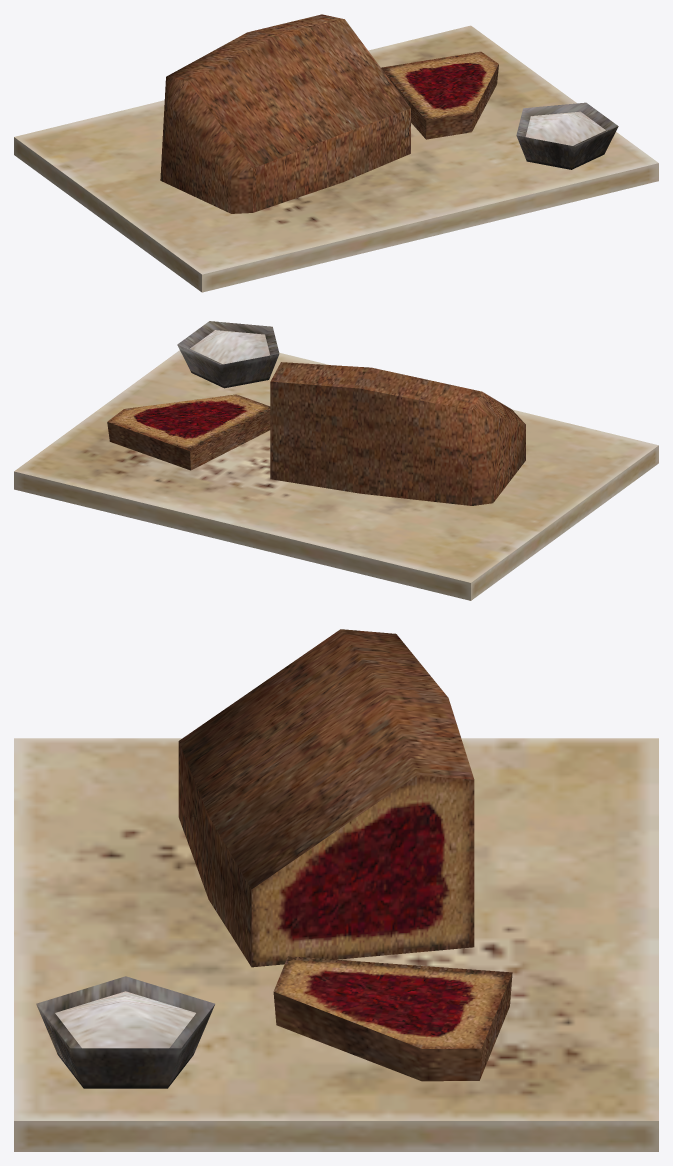
File: edb_dessert_parwan_nutricake_l1.fbx
The picture shows the model from 3 angles, top to bottom: view 1: azimuth 30°, elevation 25°; view 2: azimuth 150°, elevation 25°; view 3: azimuth 270°, elevation 25°; orthographic projection. The views are drawn at different scales.
Parts seen in each view (by area): view 1: mesh_node; view 2: mesh_node; view 3: mesh_node.
Boxes of the visible parts, x1,y1,x2,y2 form: mesh_node: (14,14,658,292); mesh_node: (14,321,658,600); mesh_node: (14,629,658,1151).
Size of the model in its own units: 0.7686 by 0.2118 by 0.5478.
